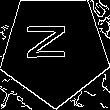N_E: (30, 29, 79, 70)
